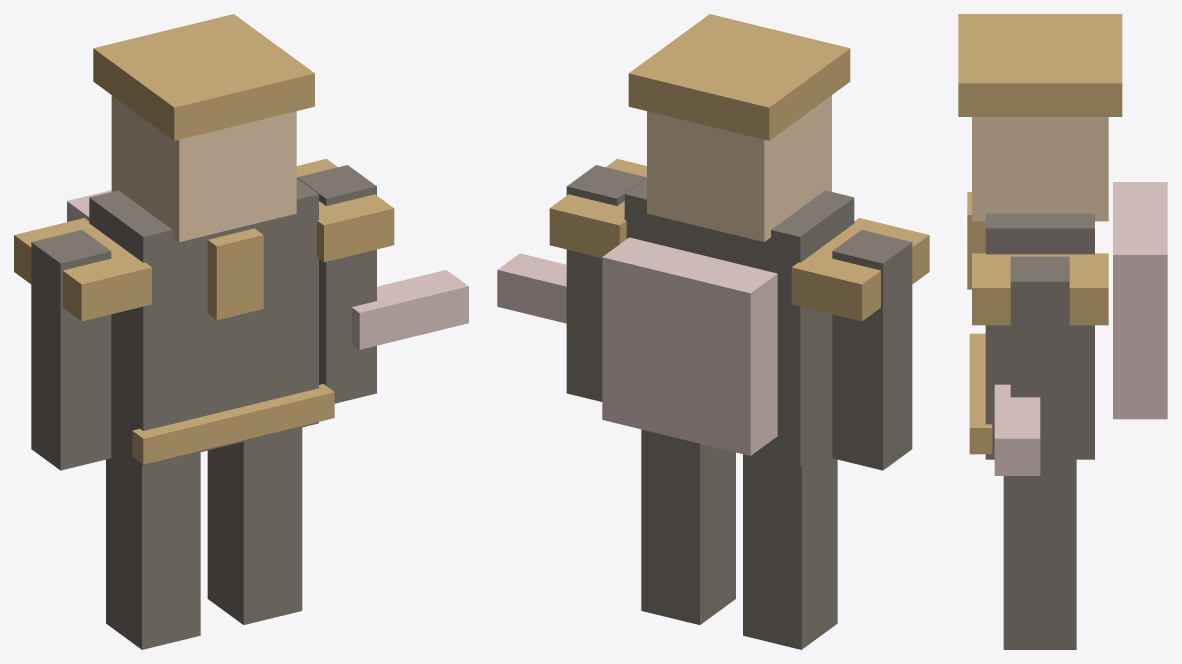
File: 03_brant_trenchmark_runner_near_ravine.glb
3 renders of one model, left to right at view 1: azimuth 30°, elevation 25°; view 2: azimuth 150°, elevation 25°; view 3: azimuth 270°, elevation 25°, orthographic.
Visible parts, largest first — view 1: Brant Trenchmark, Runner near Ravine; view 2: Brant Trenchmark, Runner near Ravine; view 3: Brant Trenchmark, Runner near Ravine.
Boxes of the visible parts, left/top/right/bottom form: Brant Trenchmark, Runner near Ravine: left=14, top=14, right=468, bottom=649; Brant Trenchmark, Runner near Ravine: left=497, top=14, right=929, bottom=649; Brant Trenchmark, Runner near Ravine: left=958, top=14, right=1167, bottom=649.
Size of the model in its own units: 1.13 by 1.5 by 0.5054.
